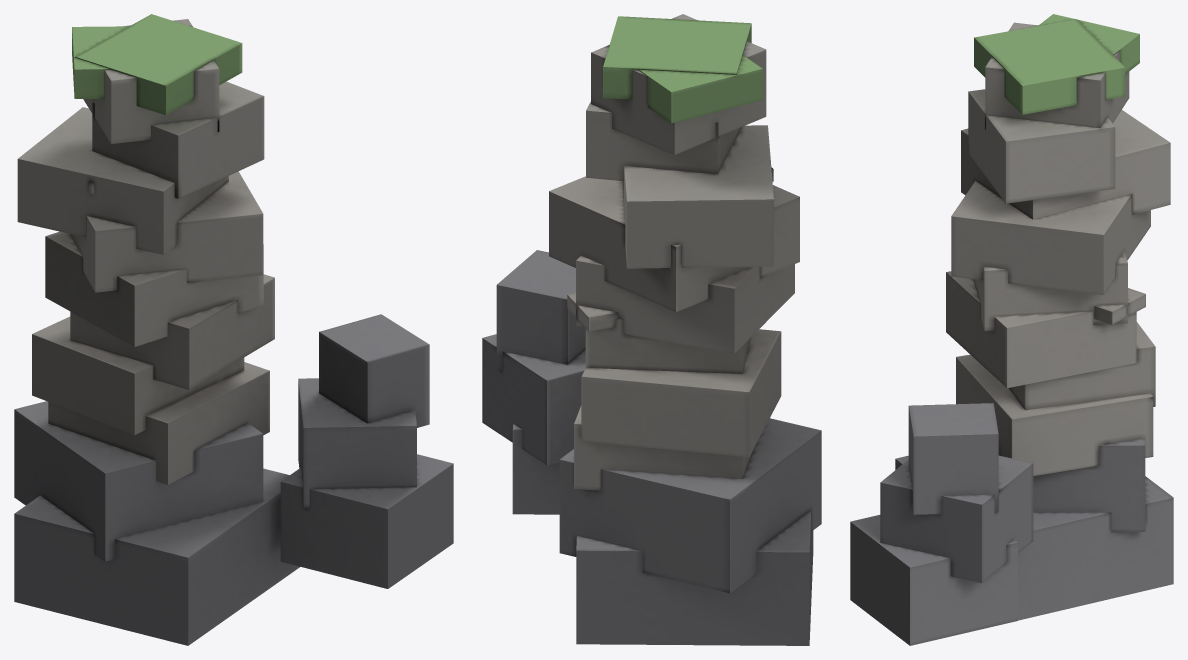
The model's file is seastack.glb.
The picture shows the model from 3 angles, left to right: view 1: azimuth 30°, elevation 25°; view 2: azimuth 150°, elevation 25°; view 3: azimuth 270°, elevation 25°; orthographic projection. The views are drawn at different scales.
Parts seen in each view (by area): view 1: seastack; view 2: seastack; view 3: seastack.
Part boxes in pixels (x1,y1,x2,y2): seastack: [14, 14, 453, 645]; seastack: [482, 14, 821, 645]; seastack: [850, 14, 1173, 645].
Size of the model in its own units: 25.42 by 35.69 by 20.27.
3 materials, 3 textured.
